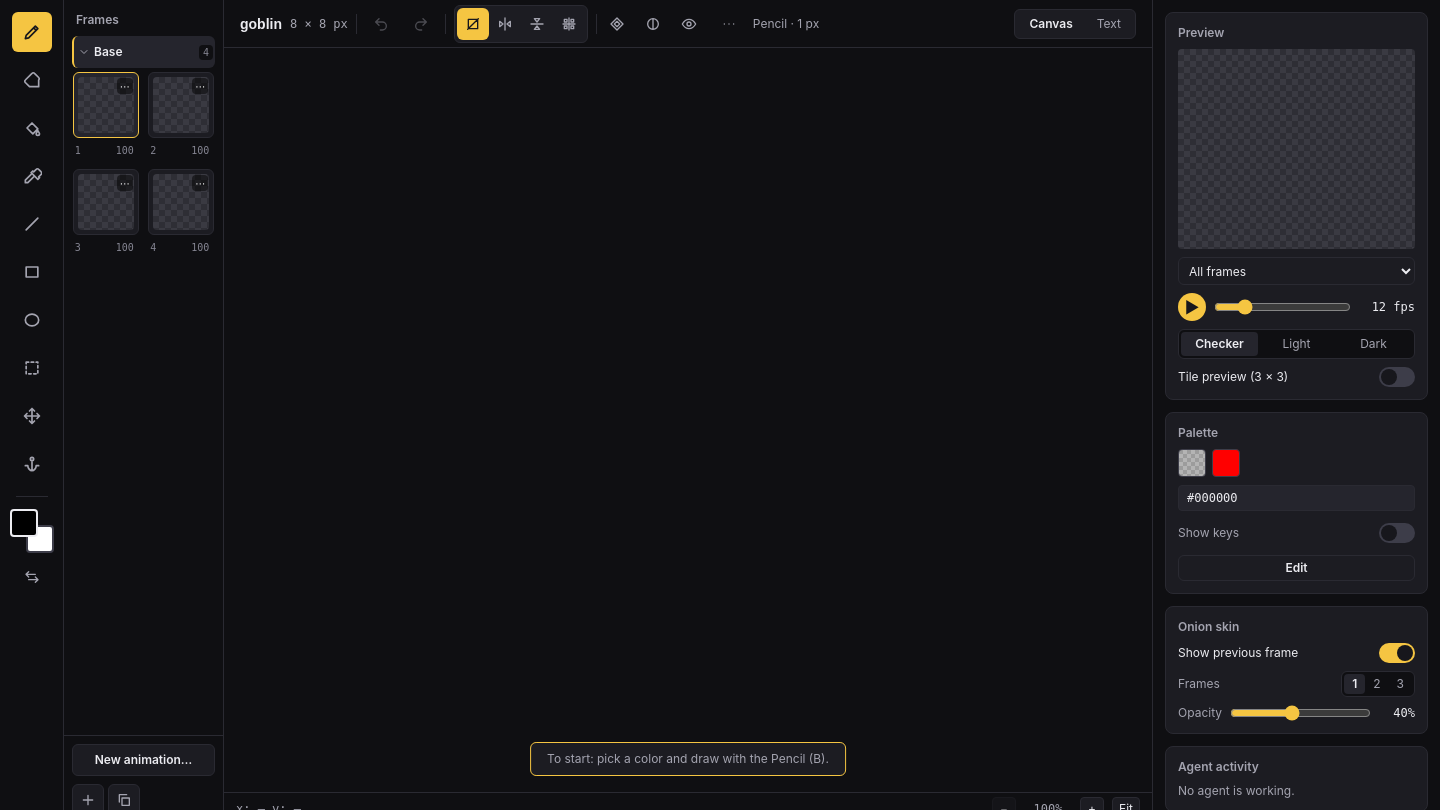
Test: Frames column › adds an empty frame right after the current one
The image size is (1440, 810).
Click the button named "Frame 2". click: (181, 105)
box: 148,72 -> 214,138
(page scrolled)
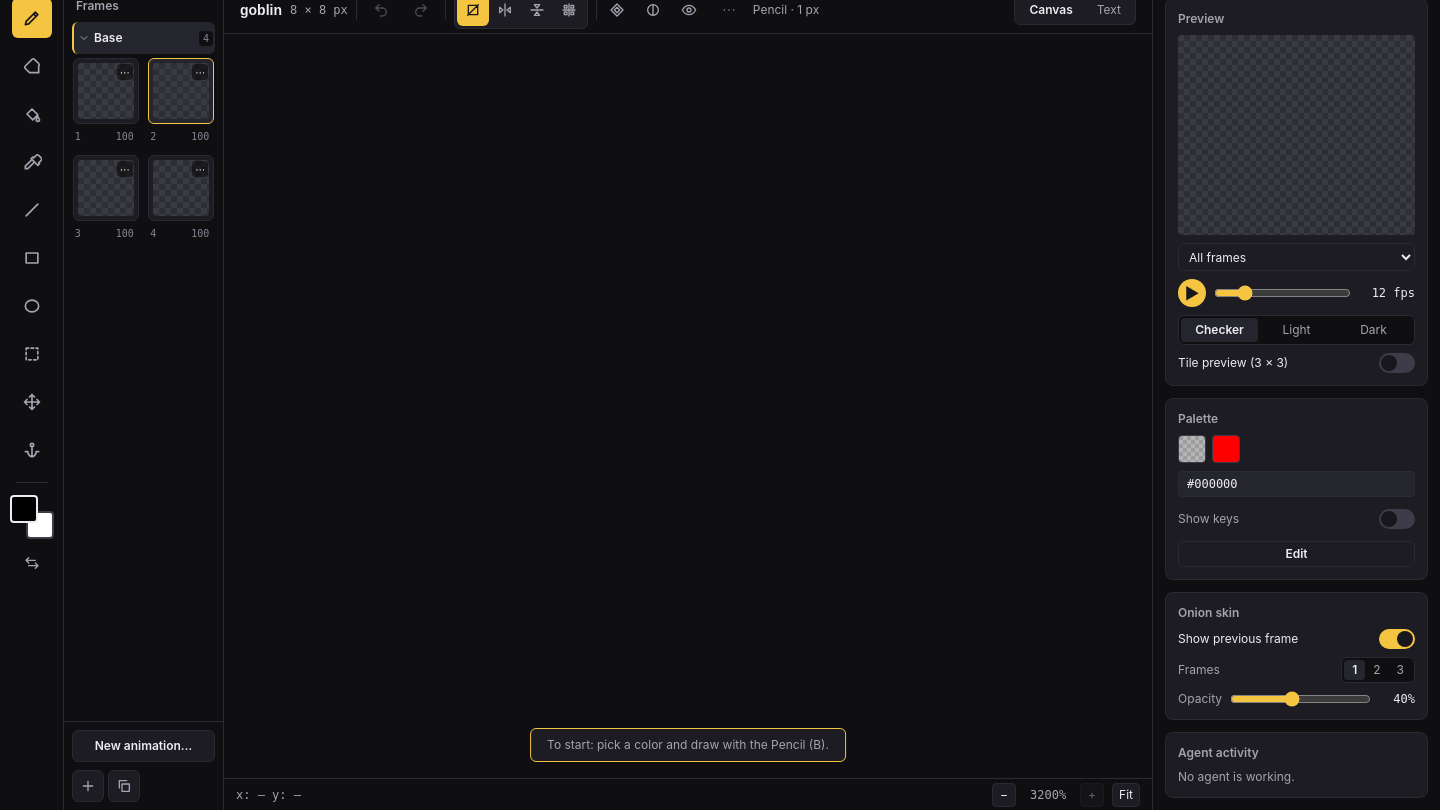
Click the button named "Add an empty frame". click: (88, 786)
box: 72,770 -> 104,802
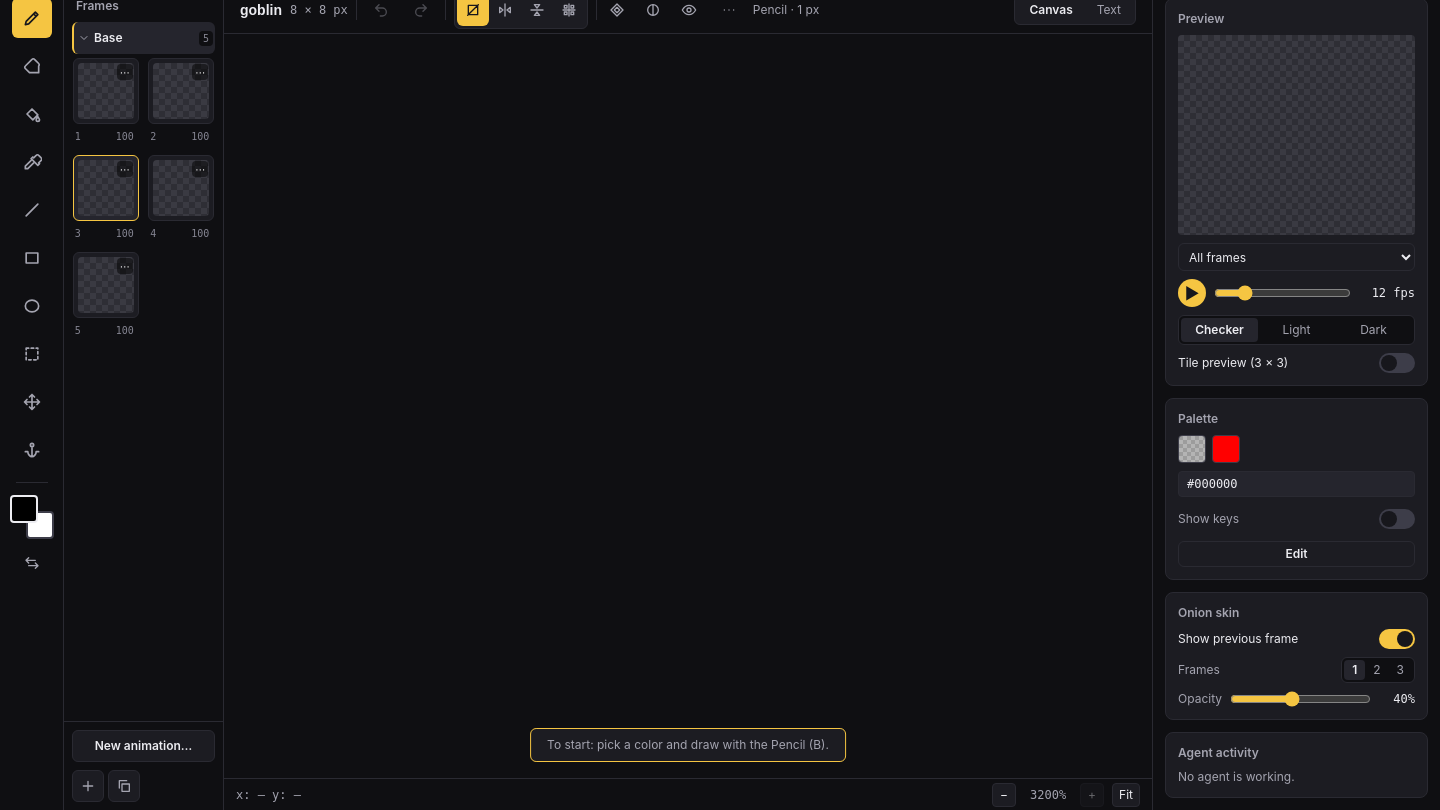
Check: the button named "Frame 5" is shown, box 73,252 -> 139,318
